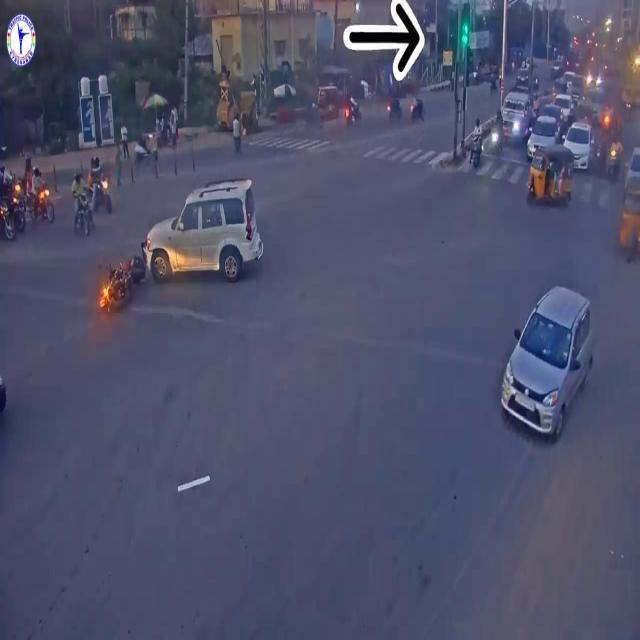accident: (94, 173, 269, 319)
non_accident: (470, 92, 622, 216), (0, 155, 57, 249), (74, 148, 115, 240)
